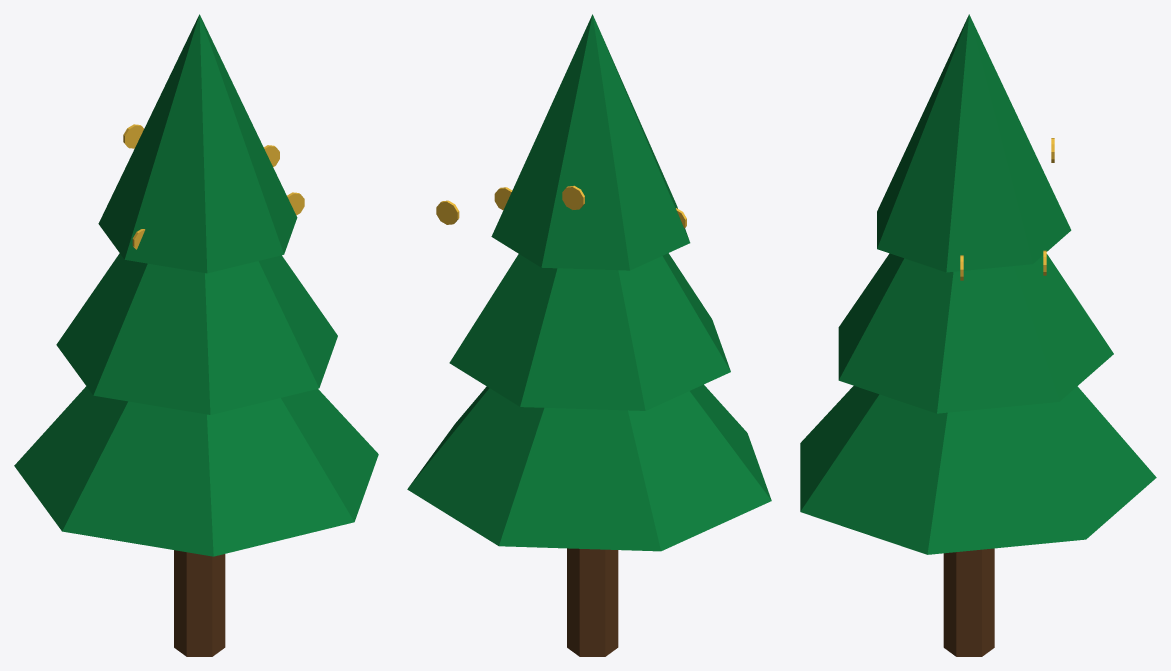
Rendered from Prop_OR_LedgerTree_19.glb.
The picture shows the model from 3 angles, left to right: view 1: azimuth 30°, elevation 25°; view 2: azimuth 150°, elevation 25°; view 3: azimuth 270°, elevation 25°; orthographic projection.
Parts seen in each view (by area): view 1: Prop_OR_LedgerTree_19; view 2: Prop_OR_LedgerTree_19; view 3: Prop_OR_LedgerTree_19.
Part boxes in pixels (left/top/right/bottom): Prop_OR_LedgerTree_19: left=14, top=14, right=378, bottom=656; Prop_OR_LedgerTree_19: left=407, top=14, right=771, bottom=656; Prop_OR_LedgerTree_19: left=800, top=14, right=1156, bottom=656.
Bounding box in the file's own units: 2.14 × 4.1 × 2.09.
